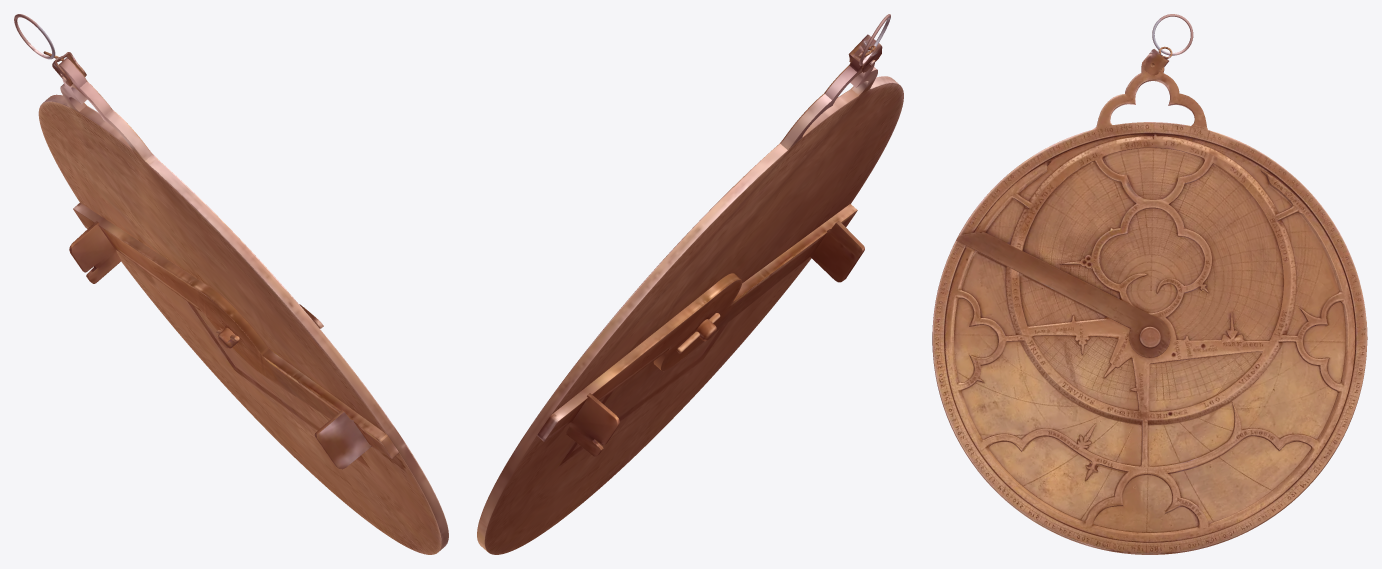
Rendered from astrolabio-transformed.glb.
3 views of the same model, side by side, from view 1: azimuth 30°, elevation 25°; view 2: azimuth 150°, elevation 25°; view 3: azimuth 270°, elevation 25° (orthographic). The views are drawn at different scales.
Parts seen in each view (by area): view 1: Object_3; view 2: Object_3; view 3: Object_3.
Part boxes in pixels (x1,y1,x2,y2): Object_3: (14, 14, 448, 554); Object_3: (477, 14, 903, 554); Object_3: (932, 14, 1367, 554).
Bounding box in the file's own units: 14.41 × 23.32 × 21.78.
Materials: 1 (1 with a texture image).
